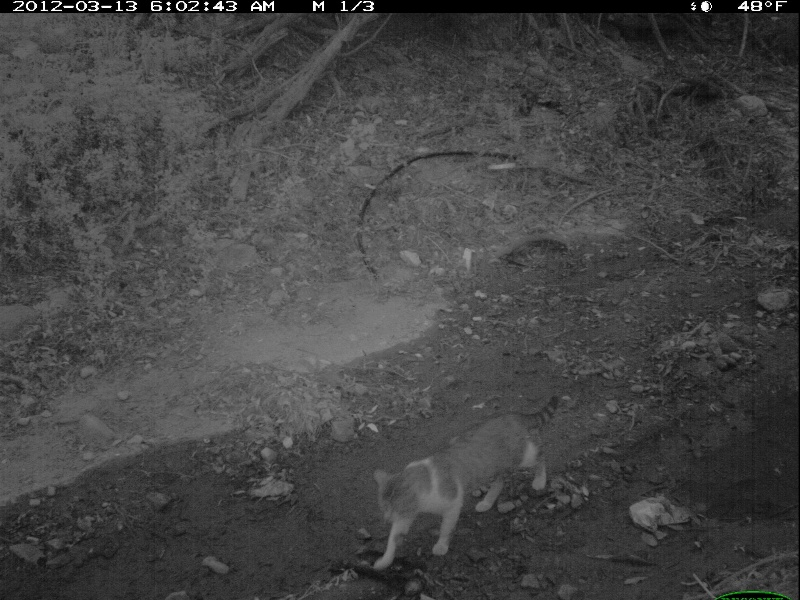cat: (369, 394, 561, 575)
